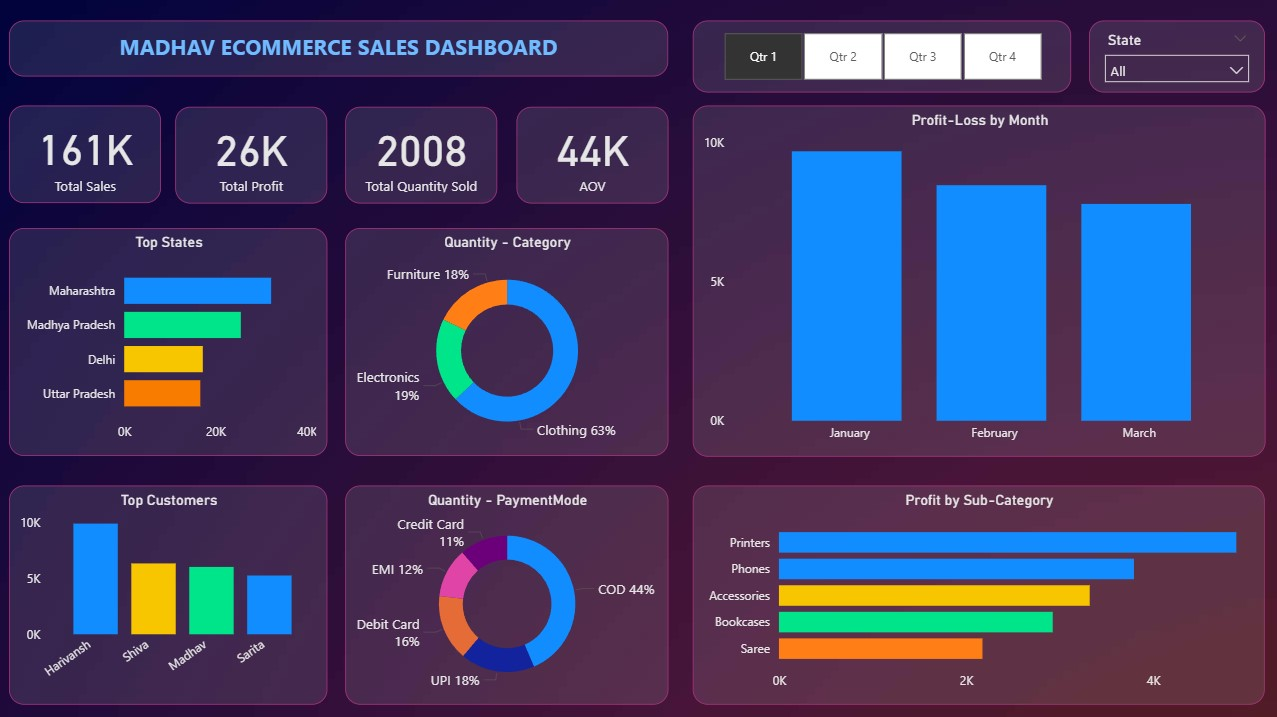

Layout of this report page (visuals, bound fields, positions):
{"tool":"powerbi","page":{"name":"Page 1","canvas":[1280,720],"ordinal":0},"visuals":[{"type":"textbox","box":[10.1,22.8,659.5,55.7],"z":0},{"type":"columnChart","title":"Profit-Loss by Month","fields":{"Category":["Orders.Order Date.Variation.Date Hierarchy.Month"],"Y":["Sum(Details.Profit)"]},"box":[693.7,107.4,573.1,351.1],"z":1000},{"type":"barChart","title":"Profit by Sub-Category","fields":{"Category":["Details.Sub-Category"],"Y":["Sum(Details.Profit)"]},"box":[693.7,487.4,571.9,219.6],"z":2000},{"type":"donutChart","title":"Quantity - Category","fields":{"Category":["Details.Category"],"Y":["Sum(Details.Quantity)"]},"box":[346.2,230.4,323.3,228],"z":3000},{"type":"donutChart","title":"Quantity - PaymentMode","fields":{"Y":["Sum(Details.Quantity)"],"Category":["Details.PaymentMode"]},"box":[346.2,487.4,323.3,219.6],"z":4000},{"type":"card","fields":{"Values":["Sum(Details.Amount)"]},"box":[9.6,107,152.3,97.4],"z":5000},{"type":"card","fields":{"Values":["Sum(Details.Quantity)"]},"box":[346.2,108.6,152,96.5],"z":6000},{"type":"card","fields":{"Values":["Sum(Details.Profit)"]},"box":[176.1,108.6,152,96.5],"z":7000},{"type":"card","fields":{"Values":["Sum(Details.AOV)"]},"box":[517.6,108.6,152,96.5],"z":8000},{"type":"barChart","title":"Top States","fields":{"Category":["Orders.State"],"Y":["Sum(Details.Amount)"]},"box":[9.7,230.4,318.5,228],"z":9000},{"type":"columnChart","title":"Top Customers","fields":{"Category":["Orders.CustomerName"],"Y":["Sum(Details.Amount)"]},"box":[9.7,487.4,318.5,219.6],"z":10000},{"type":"slicer","fields":{"Values":["Orders.Order Date.Variation.Date Hierarchy.Quarter"]},"box":[693.7,22.8,378.5,72.2],"z":11000},{"type":"slicer","fields":{"Values":["Orders.State"]},"box":[1089.9,22.8,175.9,72.2],"z":12000}]}

Visuals, with their boxes in screenshot pixels (x1, y1, x2, y2), scaled from the page's 1280x720 canvas onto the 1277x717 screenshot:
textbox: (x1=10, y1=23, x2=668, y2=78)
"Profit-Loss by Month" columnChart: (x1=692, y1=107, x2=1264, y2=457)
"Profit by Sub-Category" barChart: (x1=692, y1=485, x2=1263, y2=704)
"Quantity - Category" donutChart: (x1=345, y1=229, x2=668, y2=456)
"Quantity - PaymentMode" donutChart: (x1=345, y1=485, x2=668, y2=704)
card - Sum(Details.Amount): (x1=10, y1=107, x2=162, y2=204)
card - Sum(Details.Quantity): (x1=345, y1=108, x2=497, y2=204)
card - Sum(Details.Profit): (x1=176, y1=108, x2=327, y2=204)
card - Sum(Details.AOV): (x1=516, y1=108, x2=668, y2=204)
"Top States" barChart: (x1=10, y1=229, x2=327, y2=456)
"Top Customers" columnChart: (x1=10, y1=485, x2=327, y2=704)
slicer - Orders.Order Date.Variation.Date Hierarchy.Quarter: (x1=692, y1=23, x2=1070, y2=95)
slicer - Orders.State: (x1=1087, y1=23, x2=1263, y2=95)
